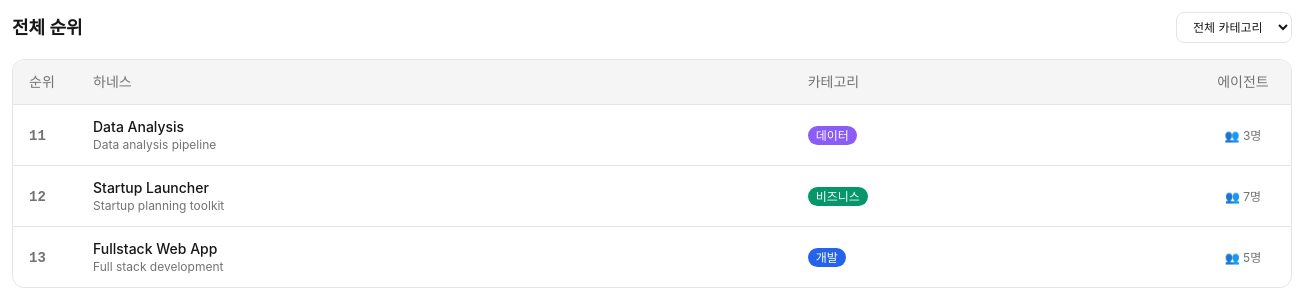
Scenario: RankingTable › filters rows when category is changed
This screenshot has width=1304, height=305.
// select "business" category
Step 1. Select "비즈니스" in the dropdown → (1234, 28), box [1176, 12, 1292, 43]
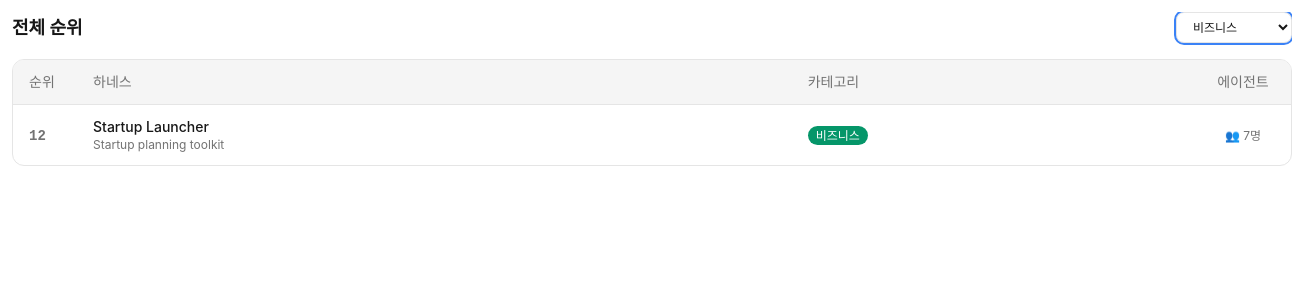
Expected: the text "Startup Launcher" is shown, [93, 118, 209, 135]
Expected: the link "Data Analysis" is gone
Expected: the link "Fullstack Web App" is gone
